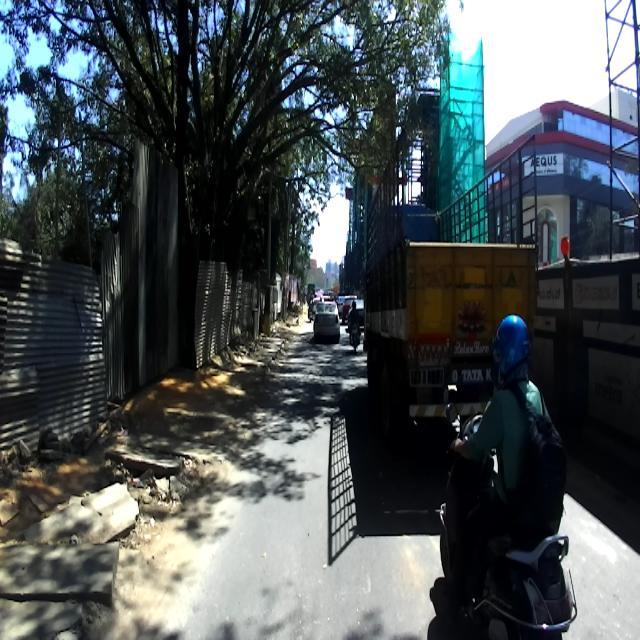motorcycle ahead at: (434, 525, 582, 640)
truck ahead at: (369, 104, 549, 401)
